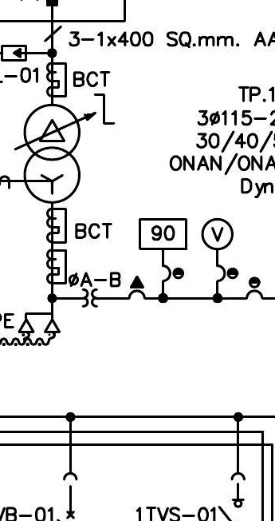11522_tx_dyn1: (23, 103, 81, 204)
terminator_double: (18, 312, 61, 334)
v_m: (200, 217, 234, 251)
